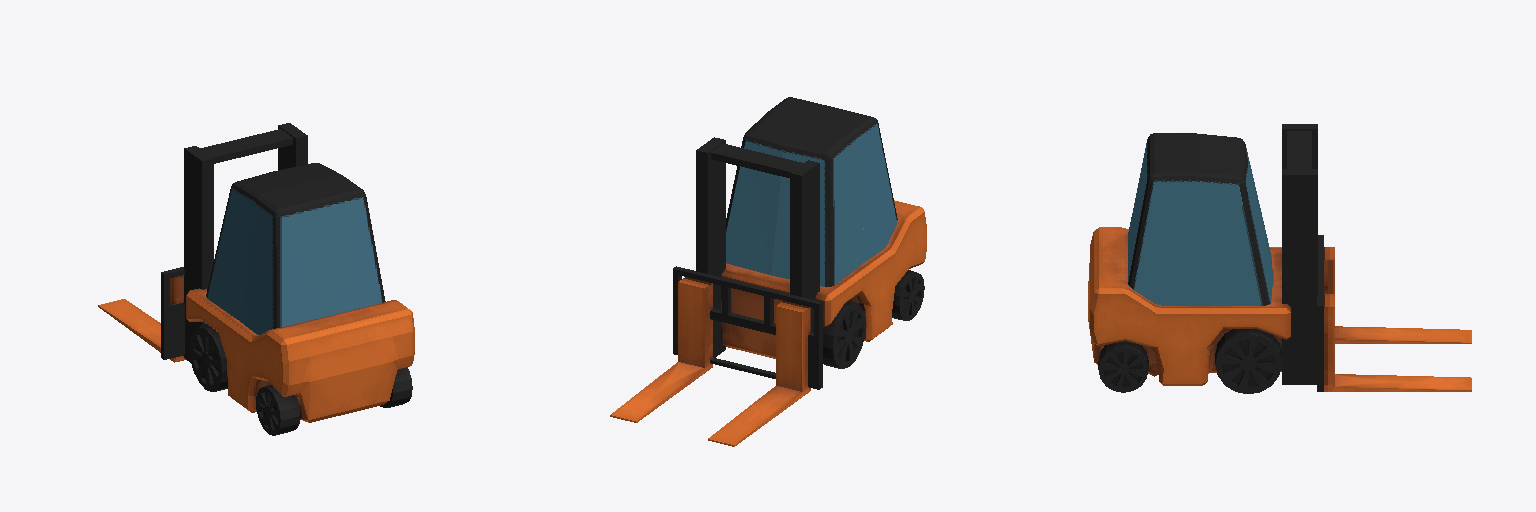
3 views of the same model, side by side, from view 1: azimuth 30°, elevation 25°; view 2: azimuth 150°, elevation 25°; view 3: azimuth 270°, elevation 25° (orthographic).
Visible parts, largest first — view 1: Cube.004; view 2: Cube.004; view 3: Cube.004.
Part boxes in pixels (x1,y1,x2,y2): Cube.004: (98,123,414,435); Cube.004: (610,97,926,446); Cube.004: (1088,124,1471,393).
Bounding box in the file's own units: 1.42 × 1.98 × 3.21.
1 materials, 1 textured.